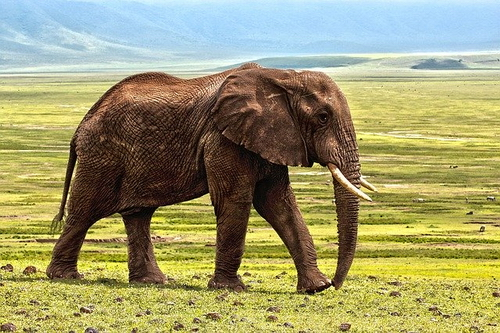elephant: (48, 62, 373, 294)
